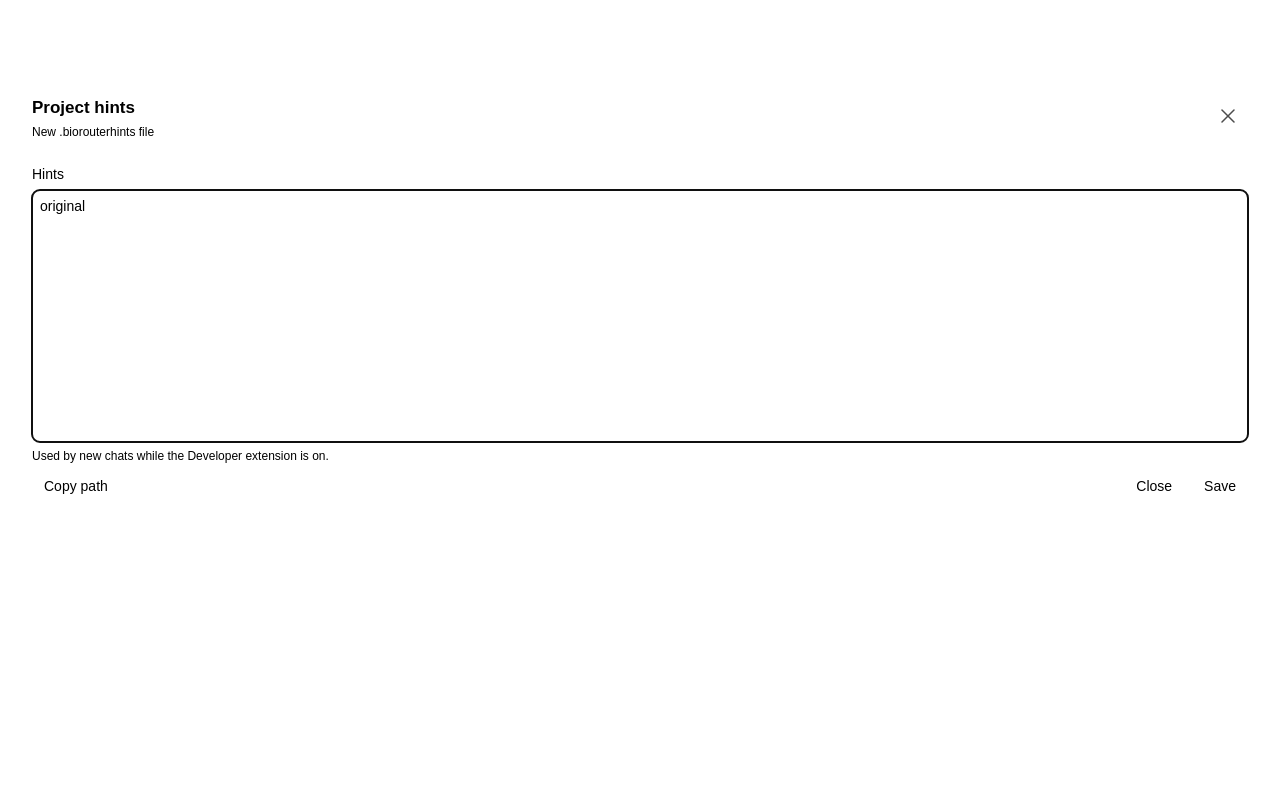
Test: saving project hints › reports the actual file write result: true
The width and height of the screenshot is (1280, 800).
Replace the text in the text box showing "original" with "updated": (640, 316) [32,190,1248,442]
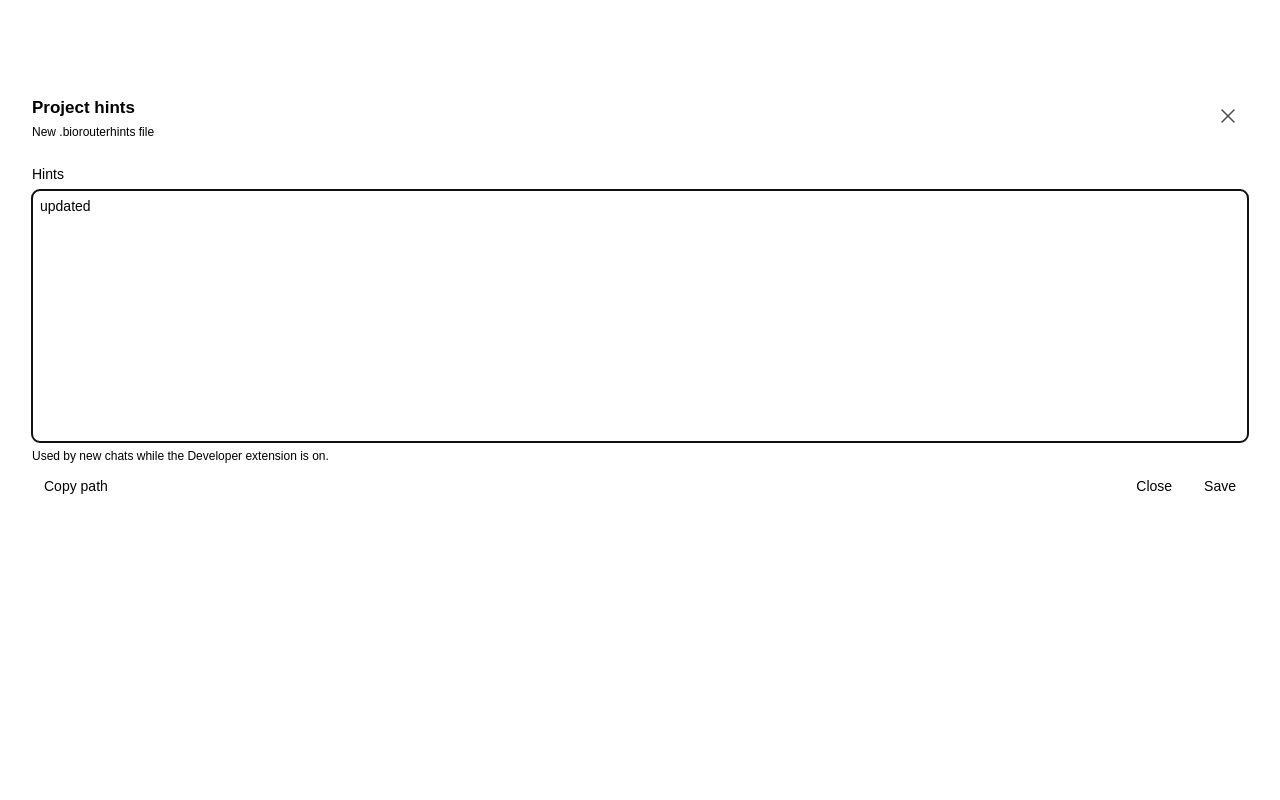
Click the button "Save": (1220, 486) [1192,476,1248,496]
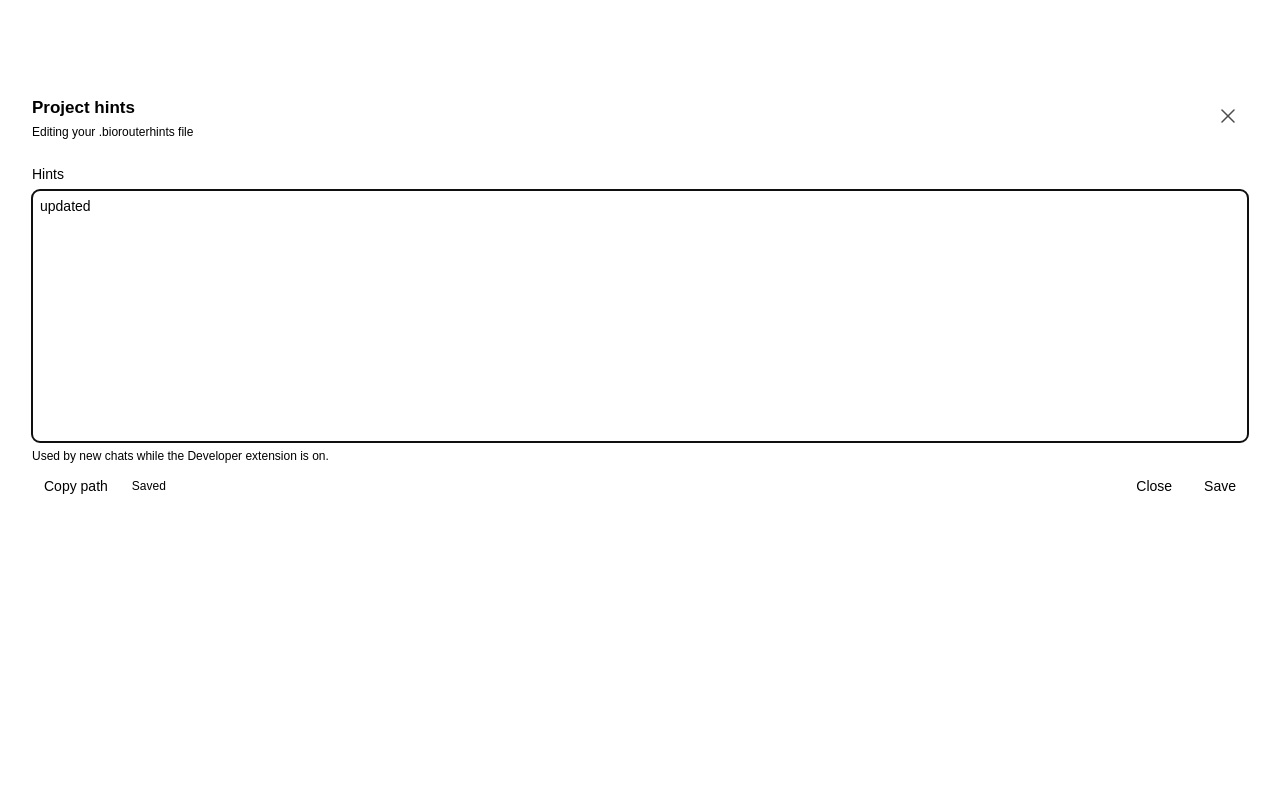
Result: the message reads "Saved" at [132,479,166,493]
Result: the dialog "Project hints" shows "Editing your .biorouterhints file" at [32,125,193,139]
